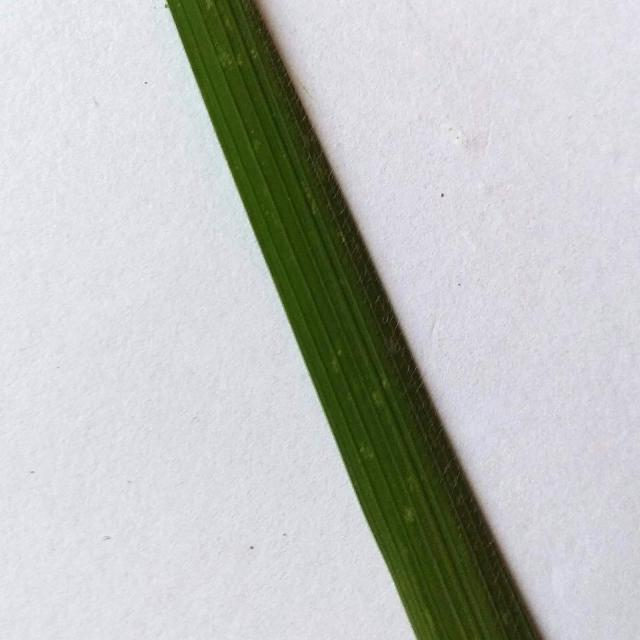healthy: (143, 0, 558, 640)
